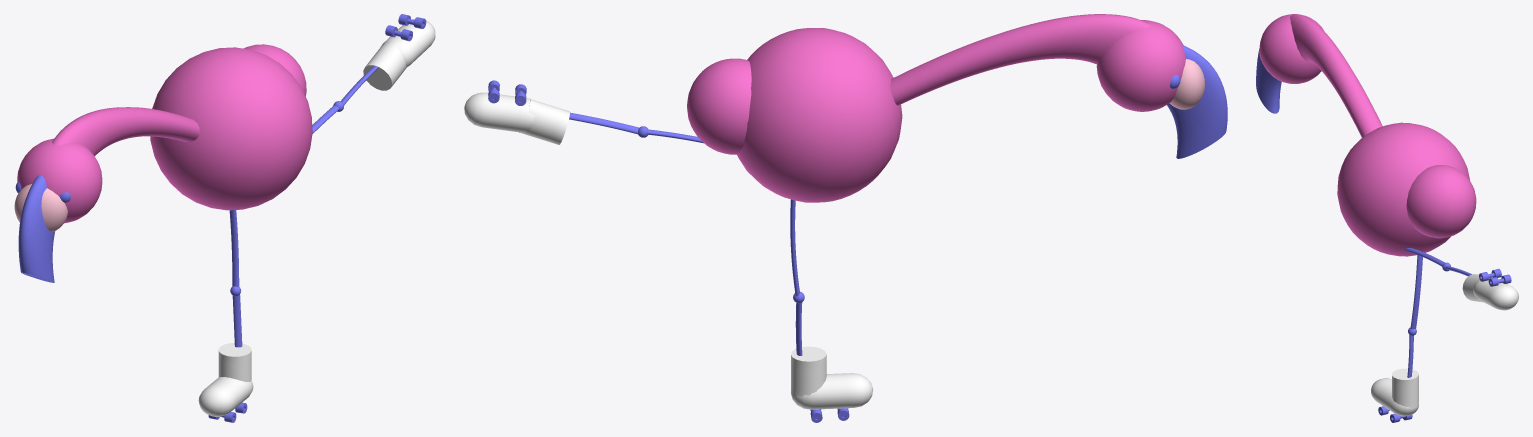
File: flamingo.draco.glb
3 renders of one model, left to right at view 1: azimuth 30°, elevation 25°; view 2: azimuth 150°, elevation 25°; view 3: azimuth 270°, elevation 25°, orthographic. The views are drawn at different scales.
Parts seen in each view (by area): view 1: Sphere (×2), Neack, beak, Capsule (×2), Cylinder (×2), Sphere.3, Sphere.1, Torus.5, Torus; view 2: Sphere (×2), Neack, Sphere.1, Capsule (×2), beak, Cylinder (×2), Sphere.3; view 3: Sphere (×2), Sphere.1, Neack, Capsule (×2), Cylinder (×2), beak, Torus.5.
Part boxes in pixels (left/top/right/bottom): Sphere (×2): left=17, top=47, right=312, bottom=223; Neack: left=52, top=107, right=199, bottom=155; beak: left=18, top=175, right=54, bottom=282; Capsule (×2): left=198, top=19, right=435, bottom=416; Cylinder (×2): left=218, top=40, right=406, bottom=381; Sphere.3: left=14, top=184, right=67, bottom=232; Sphere.1: left=243, top=44, right=306, bottom=96; Torus.5: left=229, top=210, right=239, bottom=287; Torus: left=232, top=294, right=242, bottom=347; Sphere (×2): left=737, top=20, right=1185, bottom=202; Neack: left=890, top=14, right=1152, bottom=105; Sphere.1: left=687, top=58, right=751, bottom=154; Capsule (×2): left=464, top=92, right=873, bottom=409; beak: left=1167, top=45, right=1227, bottom=158; Cylinder (×2): left=519, top=99, right=826, bottom=397; Sphere.3: left=1169, top=59, right=1204, bottom=109; Sphere (×2): left=1259, top=14, right=1469, bottom=256; Sphere.1: left=1406, top=165, right=1476, bottom=238; Neack: left=1290, top=14, right=1382, bottom=137; Capsule (×2): left=1371, top=277, right=1518, bottom=416; Cylinder (×2): left=1392, top=274, right=1482, bottom=408; beak: left=1256, top=49, right=1281, bottom=113; Torus.5: left=1410, top=255, right=1422, bottom=329.
Bounding box in the file's own units: 9.51 × 6.24 × 4.71.
